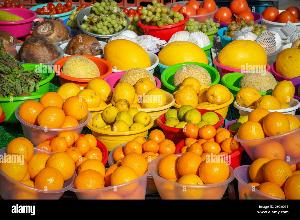grape: (80, 0, 128, 36), (129, 0, 183, 30)
lemon: (167, 74, 235, 110), (232, 80, 300, 115), (60, 71, 113, 111)
lime: (86, 101, 154, 138), (163, 105, 220, 132)
melon: (95, 38, 155, 80), (216, 38, 275, 74), (153, 39, 217, 67), (55, 55, 103, 83)
orange: (1, 134, 97, 192), (75, 150, 145, 198), (17, 86, 90, 130), (156, 148, 230, 190), (238, 153, 300, 197), (238, 108, 298, 144), (179, 126, 237, 162), (118, 132, 176, 158)
tomato: (166, 0, 300, 36), (0, 0, 76, 28)
